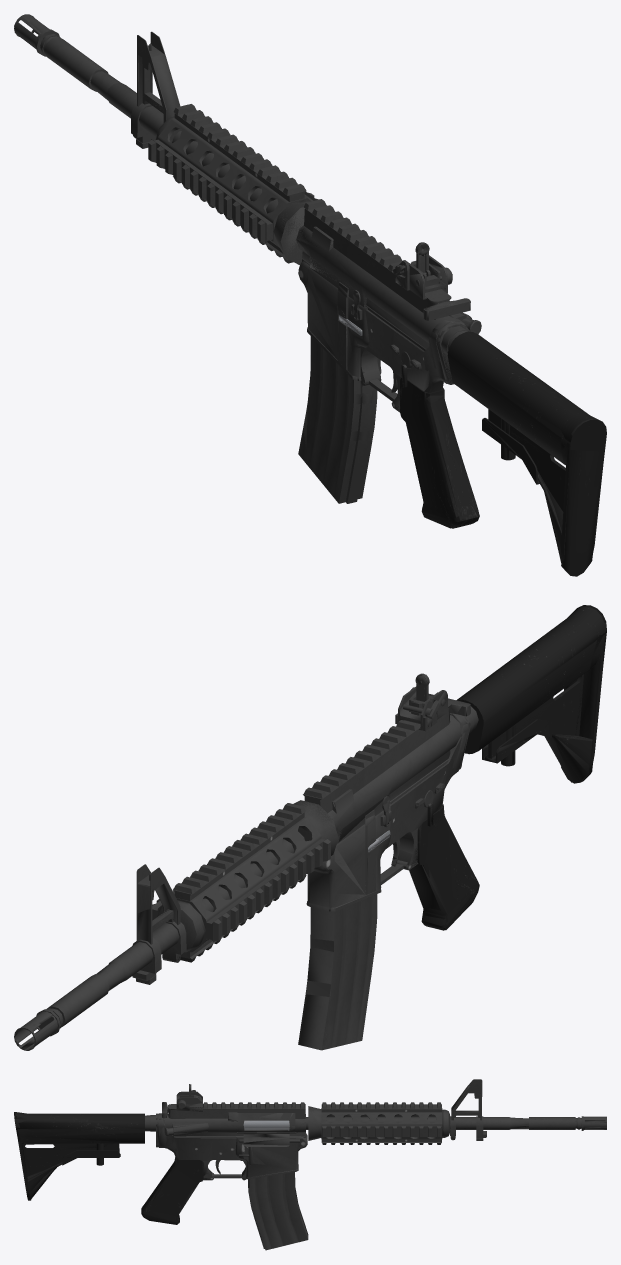
The picture shows the model from 3 angles, top to bottom: view 1: azimuth 30°, elevation 25°; view 2: azimuth 150°, elevation 25°; view 3: azimuth 270°, elevation 25°; orthographic projection. The views are drawn at different scales.
Parts seen in each view (by area): view 1: Body, LOD, Magazine, RearSight; view 2: Body, LOD, Magazine, RearSight; view 3: Body, LOD, Magazine, RearSight.
Boxes of the visible parts, x1,y1,x2,y2 form: Body: (14,14,606,575); LOD: (14,15,606,576); Magazine: (298,336,376,503); RearSight: (392,242,452,299); Body: (14,606,606,1050); LOD: (15,605,606,1050); Magazine: (305,894,377,1050); RearSight: (395,673,447,730); Body: (14,1079,606,1224); LOD: (14,1084,606,1249); Magazine: (248,1172,307,1250); RearSight: (176,1084,202,1111).
Size of the model in its own units: 0.0636 by 0.2663 by 0.8588.
Materials: 1 (1 with a texture image).
